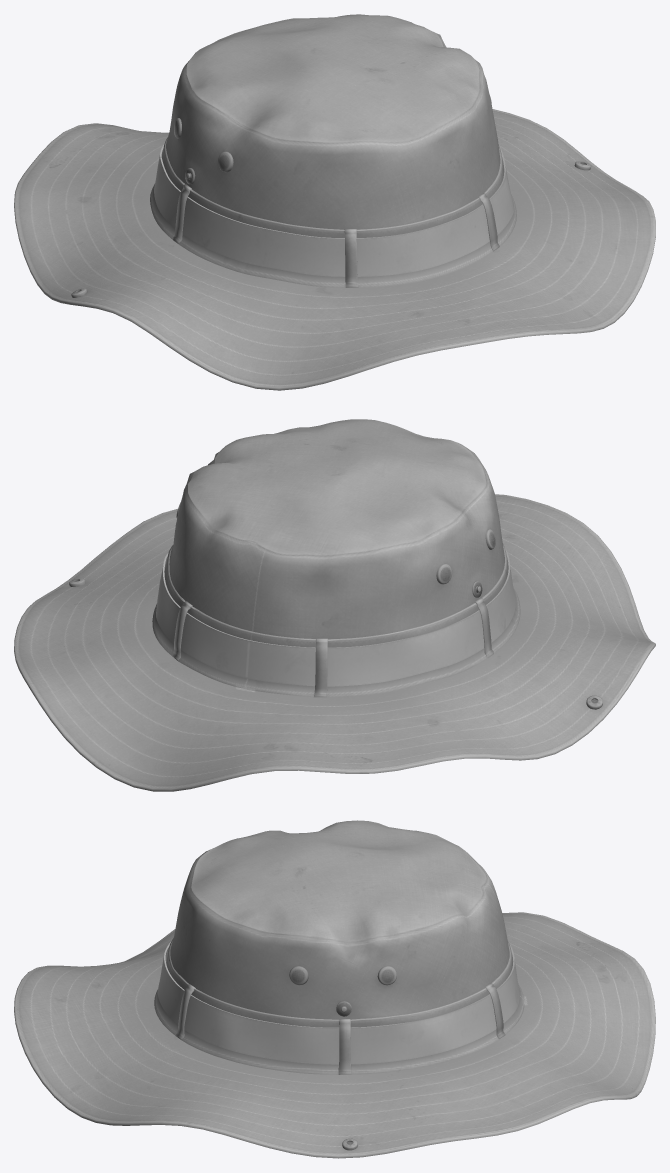
Rendered from fishermans_hat.glb.
3 views of the same model, one above another, from view 1: azimuth 30°, elevation 25°; view 2: azimuth 150°, elevation 25°; view 3: azimuth 270°, elevation 25° (orthographic). The views are drawn at different scales.
Parts seen in each view (by area): view 1: fishermans_hat; view 2: fishermans_hat; view 3: fishermans_hat.
Boxes of the visible parts, x1,y1,x2,y2 form: fishermans_hat: (14, 14, 655, 390); fishermans_hat: (14, 419, 655, 791); fishermans_hat: (14, 820, 655, 1158).
Bounding box in the file's own units: 0.3236 × 0.1239 × 0.35.
1 material, 1 textured.
